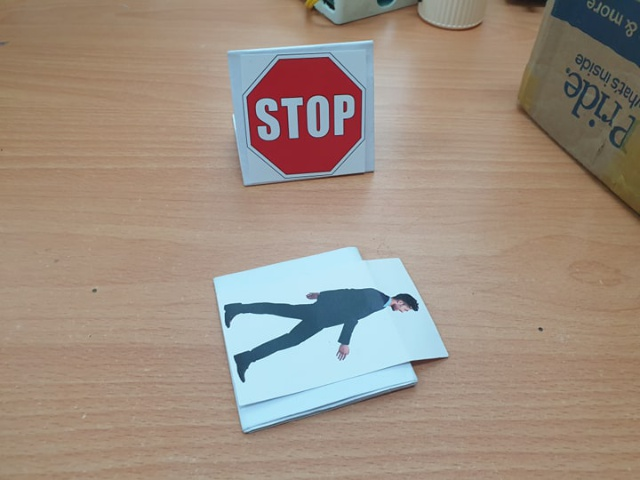Person: (224, 287, 419, 375)
Stop: (239, 53, 366, 176)
